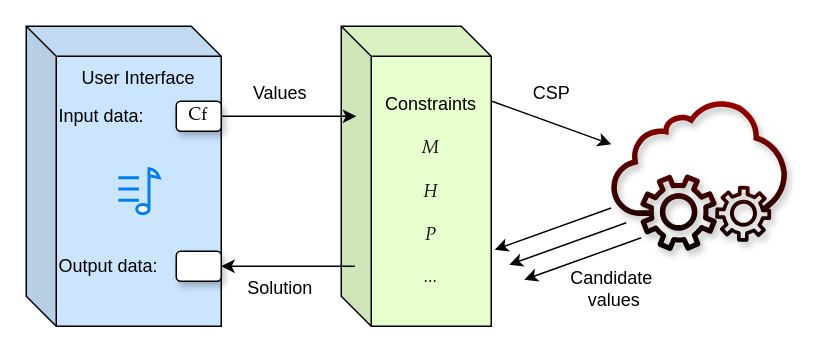
Some shapes in this 824 by 353 pixel diagram are drawn without their labels. Here are the shapes that lost their labels. From the top down, the centre of each, then its label:
point (700, 177): Solver
point (199, 268): Cp
